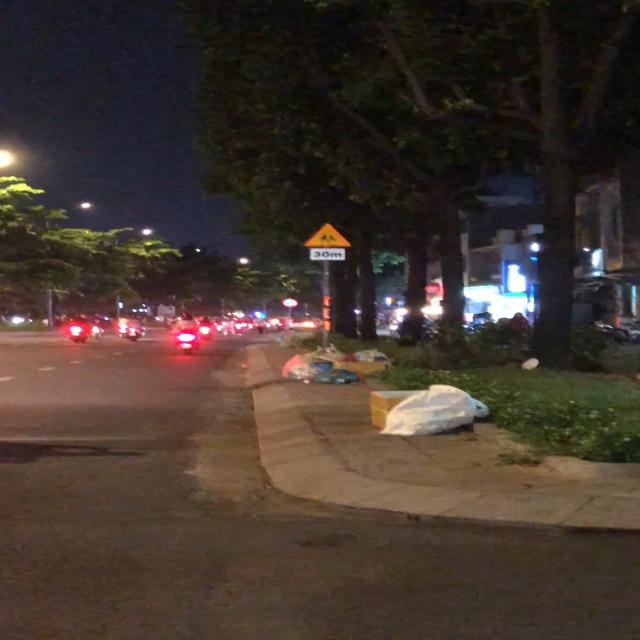Bien bao tre em: (302, 220, 354, 248)
